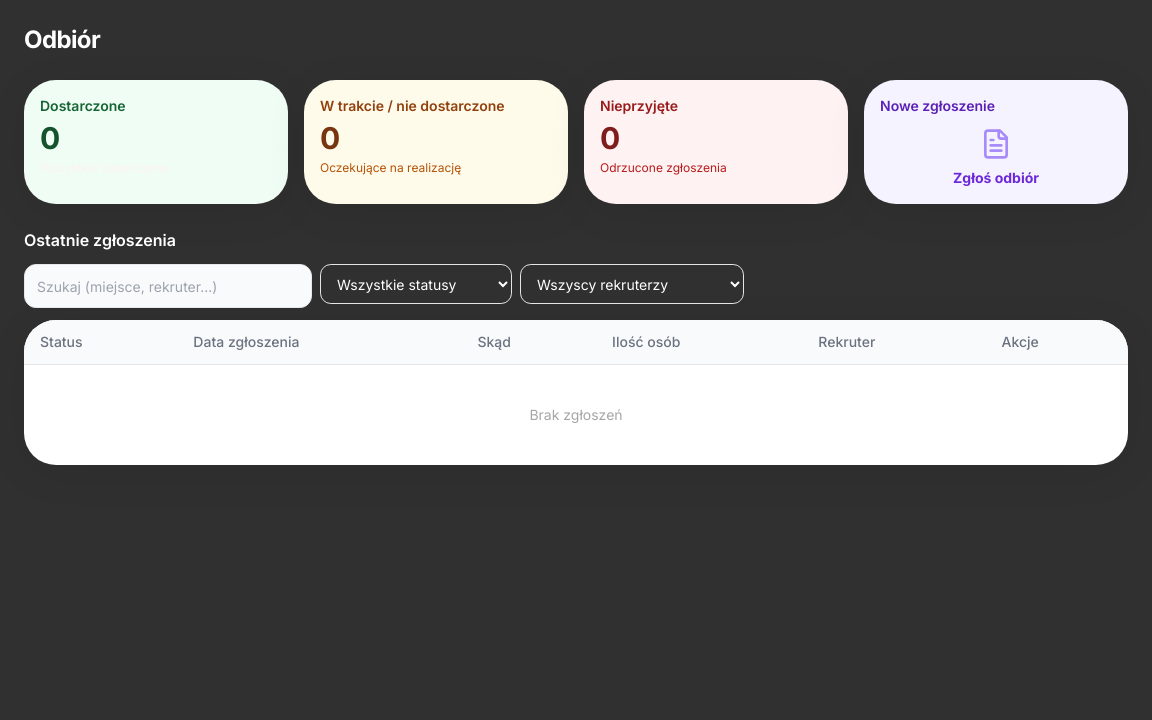
Test: OdbiorView › validates the "Inne" location details
The width and height of the screenshot is (1152, 720).
Click the text "Zgłoś odbiór" at (996, 178), box [953,168,1039,188]
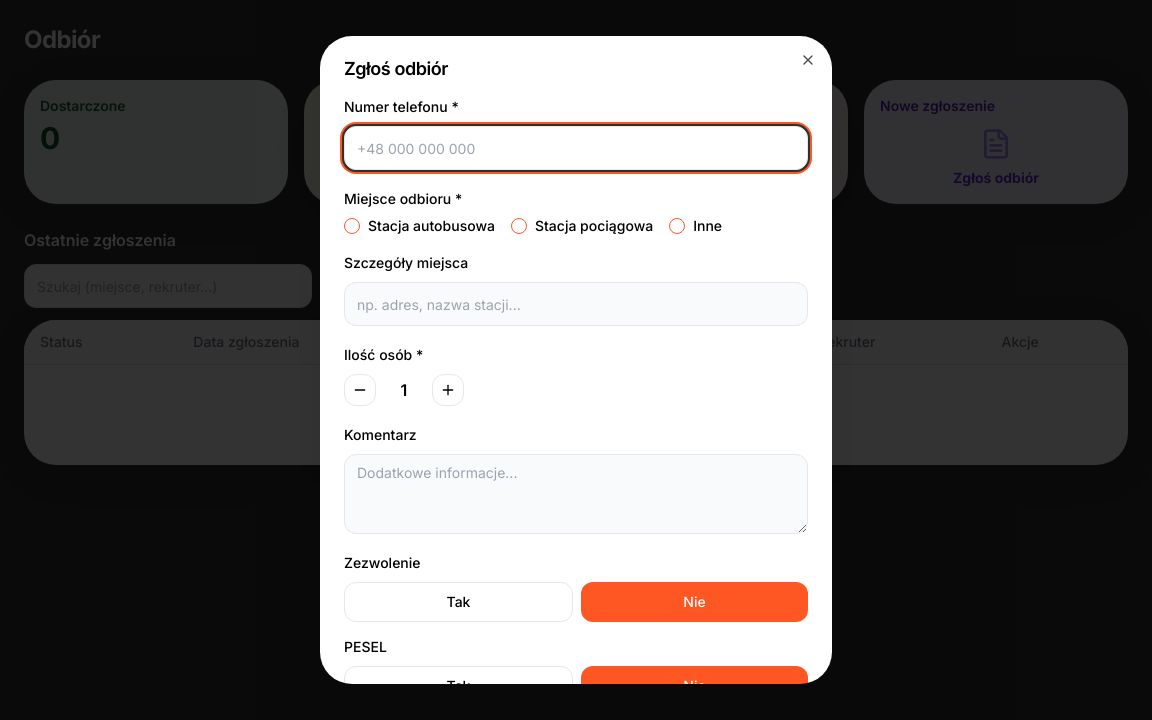
// Select "Inne"
Click the radio button named "Inne" next to "Inne" at (677, 226), box [669,218,685,234]
(page scrolled)
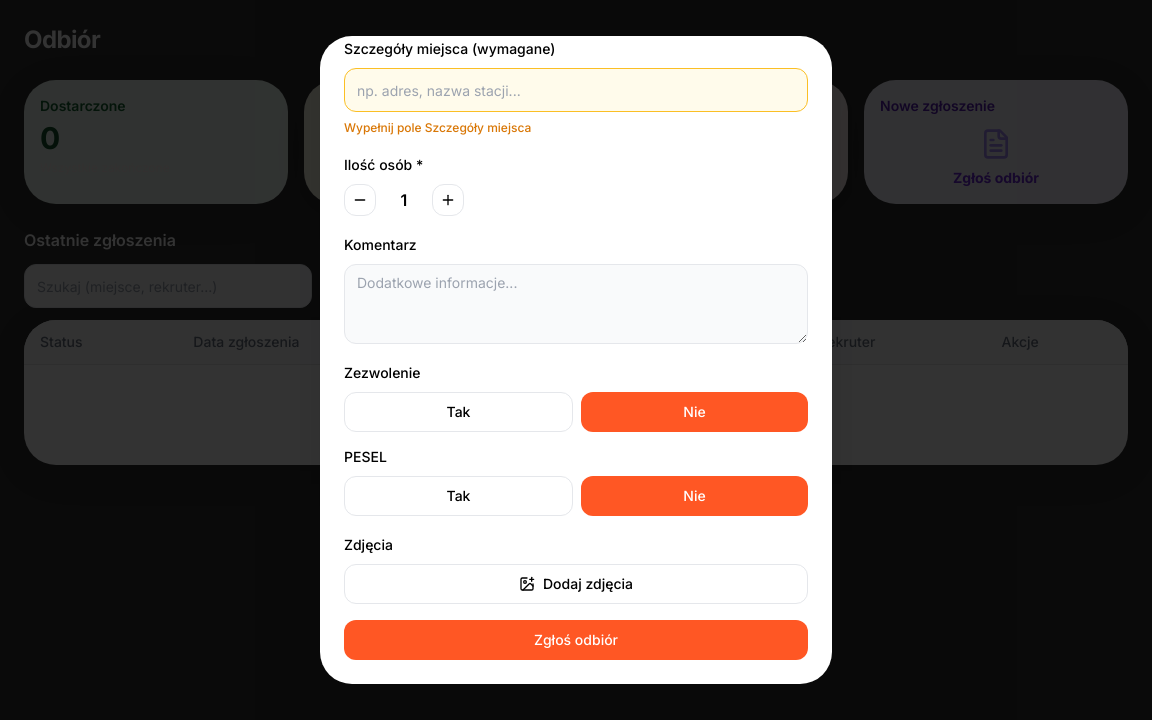
// Click submit without details
Click the button "Zgłoś odbiór" at (576, 640), box [344,620,808,660]
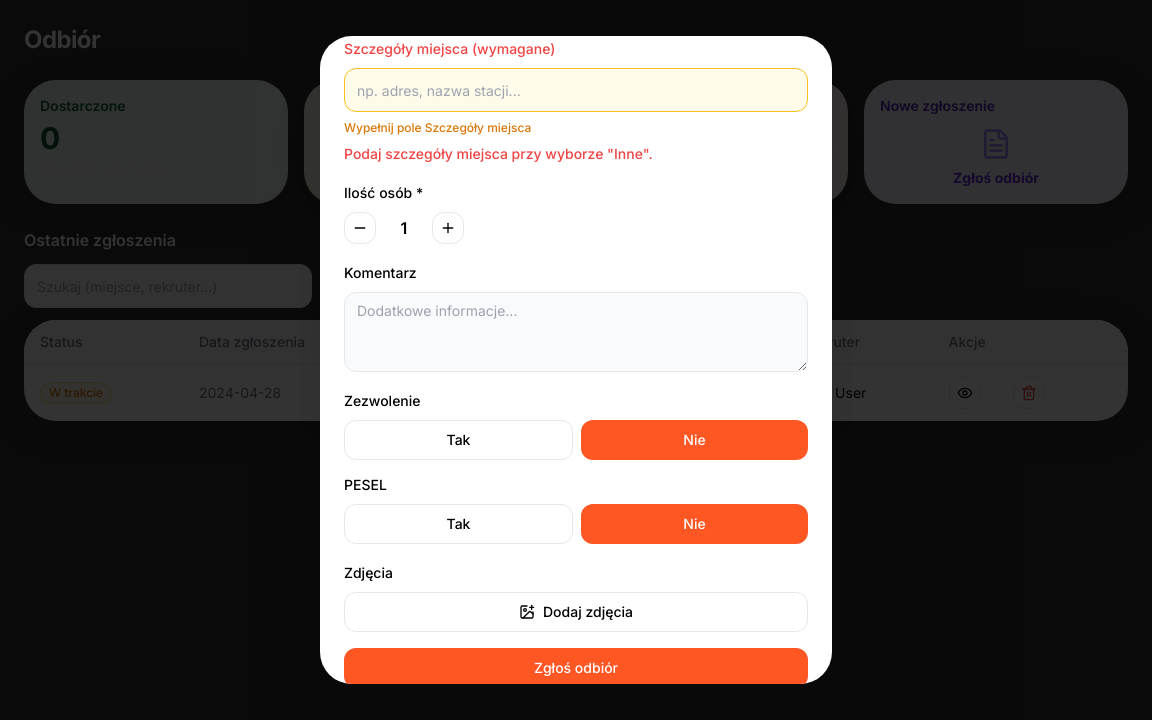
Result: the text "Podaj szczegóły miejsca przy wyborze \"Inne\"." is shown at [344,145,653,162]
